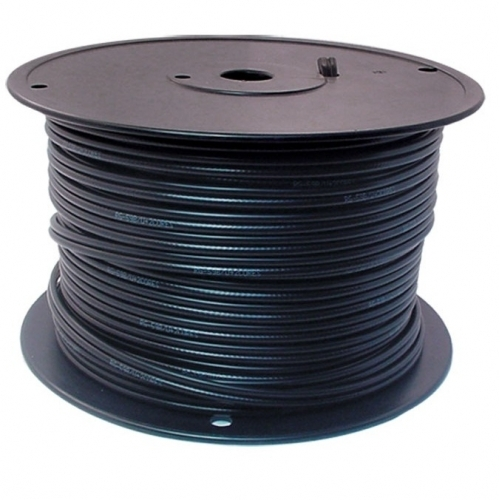Nonrec_Tangler: (1, 13, 480, 428)
